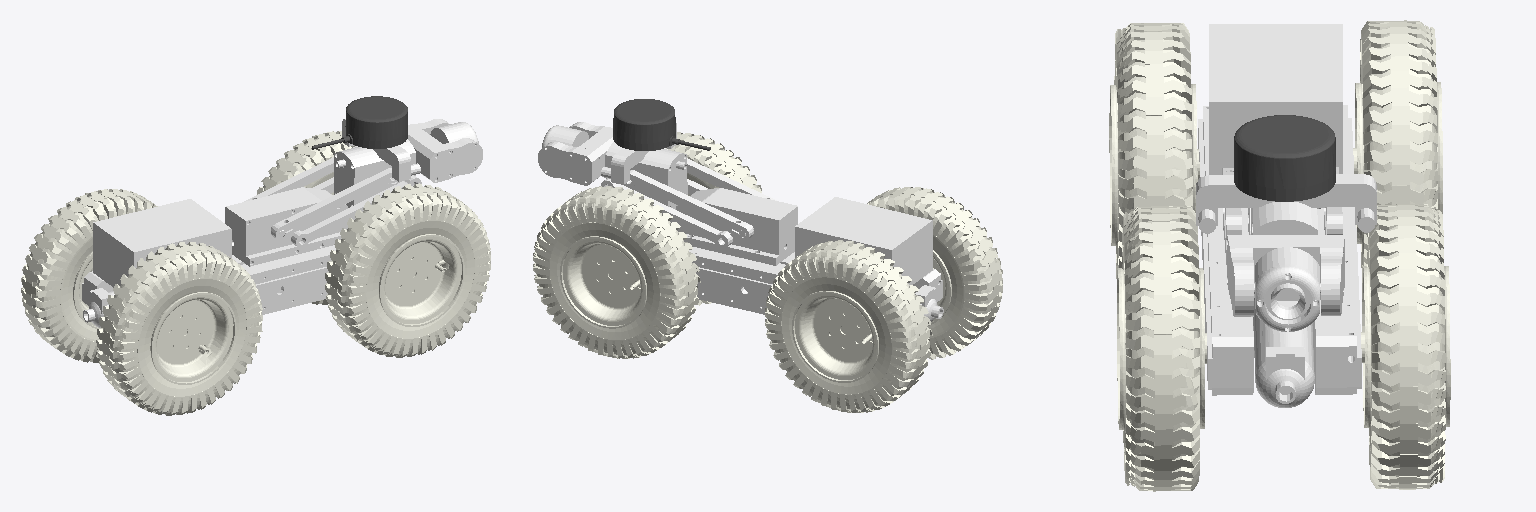
URDF robot description (my_robot):
<?xml version="1.0" encoding="utf-8"?>
<!-- This URDF was automatically created by SolidWorks to URDF Exporter! Originally created by Stephen Brawner (brawner@gmail.com) 
     Commit Version: 1.6.0-1-g15f4949  Build Version: 1.6.7594.29634
     For more information, please see http://wiki.ros.org/sw_urdf_exporter -->
<robot
  name="my_robot">

  <!-- Gazebo 模型級參數：關閉重力，避免模型掉落 →
       因為車體靠 gazebo_sync.py 的 set_model_state 定位，不需要物理模擬 -->
  <gazebo>
    <gravity>0</gravity>
  </gazebo>
  <link
    name="base_link">
    <inertial>
      <origin
        xyz="0.0107204950945907 9.78048452874233E-05 0.0706866421791387"
        rpy="0 0 0" />
      <mass
        value="3.63476292057873" />
      <inertia
        ixx="0.00248177176910613"
        ixy="-0.000388214375374055"
        ixz="-5.35378750588235E-05"
        iyy="0.0258748163804492"
        iyz="-2.16494999735491E-06"
        izz="0.0259059587156799" />
    </inertial>
    <visual>
      <origin
        xyz="0 0 0"
        rpy="0 0 0" />
      <geometry>
        <mesh
          filename="package://my_robot/meshes/base_link.STL" />
      </geometry>
      <material
        name="">
        <color
          rgba="1 1 1 1" />
      </material>
    </visual>
    <collision>
      <origin
        xyz="0 0 0"
        rpy="0 0 0" />
      <geometry>
        <mesh
          filename="package://my_robot/meshes/base_link.STL" />
      </geometry>
    </collision>
  </link>
  <link
    name="left_wheel_front_Link">
    <inertial>
      <origin
        xyz="-0.00056726546336202 -0.00972022542951548 -5.41533828231095E-05"
        rpy="0 0 0" />
      <mass
        value="0.826148513927948" />
      <inertia
        ixx="0.00282343998958379"
        ixy="-4.02585656847664E-05"
        ixz="-1.18372500496982E-07"
        iyy="0.00519041050246784"
        iyz="4.54927504057632E-08"
        izz="0.0028202175341339" />
    </inertial>
    <visual>
      <origin
        xyz="0 0 0"
        rpy="0 0 0" />
      <geometry>
        <mesh
          filename="package://my_robot/meshes/left_wheel_front_Link.STL" />
      </geometry>
      <material
        name="">
        <color
          rgba="1 1 0.949019607843137 1" />
      </material>
    </visual>
    <collision>
      <origin
        xyz="0 0 0"
        rpy="0 0 0" />
      <geometry>
        <mesh
          filename="package://my_robot/meshes/left_wheel_front_Link.STL" />
      </geometry>
    </collision>
  </link>
  <joint
    name="left_wheel_front_joint"
    type="fixed">
    <origin
      xyz="0.178912109148856 0.107037805223412 0.030052752271374"
      rpy="0 0 0" />
    <parent
      link="base_link" />
    <child
      link="left_wheel_front_Link" />
    <axis
      xyz="-0.0102031718617054 0.999947843638991 0.000453084641131486" />
    <dynamics damping="1.0" />
  </joint>
  <link
    name="left_wheel_rear_Link">
    <inertial>
      <origin
        xyz="-0.000568071797212799 -0.00972023948829816 -4.17620014631966E-05"
        rpy="0 0 0" />
      <mass
        value="0.826148516815797" />
      <inertia
        ixx="0.0028234353025611"
        ixy="-4.02579975511913E-05"
        ixz="-1.60650028881112E-07"
        iyy="0.0051904105338956"
        iyz="2.69894437586058E-08"
        izz="0.00282022220983345" />
    </inertial>
    <visual>
      <origin
        xyz="0 0 0"
        rpy="0 0 0" />
      <geometry>
        <mesh
          filename="package://my_robot/meshes/left_wheel_rear_Link.STL" />
      </geometry>
      <material
        name="">
        <color
          rgba="1 1 0.949019607843137 1" />
      </material>
    </visual>
    <collision>
      <origin
        xyz="0 0 0"
        rpy="0 0 0" />
      <geometry>
        <mesh
          filename="package://my_robot/meshes/left_wheel_rear_Link.STL" />
      </geometry>
    </collision>
  </link>
  <joint
    name="left_wheel_rear_joint"
    type="fixed">
    <origin
      xyz="-0.157035966824235 0.101175564800452 0.0300400994124252"
      rpy="0 0 0" />
    <parent
      link="base_link" />
    <child
      link="left_wheel_rear_Link" />
    <axis
      xyz="0.0113846376579507 -0.999932079719297 0.00249519010073403" />
    <dynamics damping="1.0" />
  </joint>
  <link
    name="right_wheel_front_Link">
    <inertial>
      <origin
        xyz="0.000568271712042531 0.00972024297600887 3.80660475420075E-05"
        rpy="0 0 0" />
      <mass
        value="0.826148517222712" />
      <inertia
        ixx="0.00282337162183054"
        ixy="-4.02620671059894E-05"
        ixz="4.26178226804607E-07"
        iyy="0.00519041041283411"
        iyz="9.1915379883548E-08"
        izz="0.00282028601476103" />
    </inertial>
    <visual>
      <origin
        xyz="0 0 0"
        rpy="0 0 0" />
      <geometry>
        <mesh
          filename="package://my_robot/meshes/right_wheel_front_Link.STL" />
      </geometry>
      <material
        name="">
        <color
          rgba="1 1 0.949019607843137 1" />
      </material>
    </visual>
    <collision>
      <origin
        xyz="0 0 0"
        rpy="0 0 0" />
      <geometry>
        <mesh
          filename="package://my_robot/meshes/right_wheel_front_Link.STL" />
      </geometry>
    </collision>
  </link>
  <joint
    name="right_wheel_front_joint"
    type="fixed">
    <origin
      xyz="0.181032384121442 -0.10075683114026 0.0299585988024258"
      rpy="0 0 0" />
    <parent
      link="base_link" />
    <child
      link="right_wheel_front_Link" />
    <axis
      xyz="-0.0102031718617054 0.999947843638991 0.000453084641131486" />
    <dynamics damping="1.0" />
  </joint>
  <link
    name="right_wheel_rear_Link">
    <inertial>
      <origin
        xyz="0.000325061866663701 0.00971599900451087 -0.00054881991318279"
        rpy="0 0 0" />
      <mass
        value="0.826148517020798" />
      <inertia
        ixx="0.00282235102496642"
        ixy="-4.06045629882933E-05"
        ixz="-1.24642459901598E-06"
        iyy="0.00519039198187792"
        iyz="-7.86774676503047E-07"
        izz="0.0028213111998838" />
    </inertial>
    <visual>
      <origin
        xyz="0 0 0"
        rpy="0 0 0" />
      <geometry>
        <mesh
          filename="package://my_robot/meshes/right_wheel_rear_Link.STL" />
      </geometry>
      <material
        name="">
        <color
          rgba="1 1 0.949019607843137 1" />
      </material>
    </visual>
    <collision>
      <origin
        xyz="0 0 0"
        rpy="0 0 0" />
      <geometry>
        <mesh
          filename="package://my_robot/meshes/right_wheel_rear_Link.STL" />
      </geometry>
    </collision>
  </link>
  <joint
    name="right_wheel_rear_joint"
    type="fixed">
    <origin
      xyz="-0.154670188269395 -0.106614787564809 0.0305586110601316"
      rpy="0 0 0" />
    <parent
      link="base_link" />
    <child
      link="right_wheel_rear_Link" />
    <axis
      xyz="0.0113846376579507 -0.999932079719297 0.00249519010073403" />
    <dynamics damping="1.0" />
  </joint>
  <link
    name="base_scan">
    <inertial>
      <origin
        xyz="-0.00260987815096526 -4.09869785545011E-05 -0.0217665044703202"
        rpy="0 0 0" />
      <mass
        value="0.0374307462908558" />
      <inertia
        ixx="2.803960761003E-05"
        ixy="-9.95197218049216E-08"
        ixz="-9.89677016712795E-07"
        iyy="3.3614709196291E-05"
        iyz="-1.79406539715028E-08"
        izz="4.50944015130581E-05" />
    </inertial>
    <visual>
      <origin
        xyz="0 0 0"
        rpy="0 0 0" />
      <geometry>
        <mesh
          filename="package://my_robot/meshes/base_scan.STL" />
      </geometry>
      <material
        name="">
        <color
          rgba="0.376470588235294 0.376470588235294 0.376470588235294 1" />
      </material>
    </visual>
    <collision>
      <origin
        xyz="0 0 0"
        rpy="0 0 0" />
      <geometry>
        <mesh
          filename="package://my_robot/meshes/base_scan.STL" />
      </geometry>
    </collision>
  </link>
  <joint
    name="base_scan_joint"
    type="fixed">
    <origin
      xyz="0.190432245902798 0.00406027485239292 0.216848211077121"
      rpy="0 0 0" />
    <parent
      link="base_link" />
    <child
      link="base_scan" />
    <axis
      xyz="0 0 0" />
  </joint>

  <gazebo reference="base_scan">
    <sensor type="ray" name="lds_lfcd_sensor">
      <pose>0 0 0 0 0 0</pose>
      <visualize>true</visualize>
      <update_rate>7</update_rate>
      <ray>
        <scan>
          <horizontal>
            <samples>720</samples>
            <resolution>0.5</resolution>
            <min_angle>0.0</min_angle>
            <max_angle>6.28319</max_angle>
          </horizontal>
        </scan>
        <range>
          <min>0.120</min>
          <max>7</max>
          <resolution>0.015</resolution>
        </range>
        <noise>
          <type>gaussian</type>
          <mean>0.0</mean>
          <stddev>0.01</stddev>
        </noise>
      </ray>
      <plugin name="gazebo_ros_lds_lfcd_controller" filename="libgazebo_ros_laser.so">
        <topicName>scan</topicName>
        <frameName>base_scan</frameName>
      </plugin>
    </sensor>
  </gazebo>

</robot>

--- Facts derived from the render (not from the file) ---
Views: 3 orthographic renders of the robot side by side, from view 1: azimuth 30°, elevation 25°; view 2: azimuth 150°, elevation 25°; view 3: azimuth 270°, elevation 25°.
Model my_robot with 6 links and 5 joints (5 fixed), rooted at base_link, posed all joints at 0.
Links seen in each view (by area): view 1: base_link, right_wheel_front_Link, right_wheel_rear_Link, left_wheel_rear_Link, base_scan, left_wheel_front_Link; view 2: base_link, left_wheel_rear_Link, left_wheel_front_Link, right_wheel_rear_Link, base_scan, right_wheel_front_Link; view 3: base_link, right_wheel_front_Link, left_wheel_front_Link, right_wheel_rear_Link, left_wheel_rear_Link, base_scan.
Link boxes in pixels (x1,y1,x2,y2): base_link: (82, 119, 482, 327); right_wheel_front_Link: (325, 183, 490, 357); right_wheel_rear_Link: (96, 242, 262, 415); left_wheel_rear_Link: (21, 189, 157, 362); base_scan: (312, 96, 407, 149); left_wheel_front_Link: (257, 131, 354, 304); base_link: (538, 122, 943, 321); left_wheel_rear_Link: (765, 240, 932, 412); left_wheel_front_Link: (533, 186, 700, 358); right_wheel_rear_Link: (867, 187, 1002, 359); base_scan: (613, 99, 710, 150); right_wheel_front_Link: (666, 132, 761, 305); base_link: (1196, 24, 1376, 407); right_wheel_front_Link: (1117, 206, 1206, 491); left_wheel_front_Link: (1361, 204, 1450, 489); right_wheel_rear_Link: (1109, 23, 1199, 278); left_wheel_rear_Link: (1353, 20, 1442, 289); base_scan: (1234, 115, 1335, 201).
Size in the robot's own frame: 0.5964 by 0.2638 by 0.2974 metres.
Meshes: 6 distinct files referenced, 6 mesh visuals loaded (6 binary STL).
